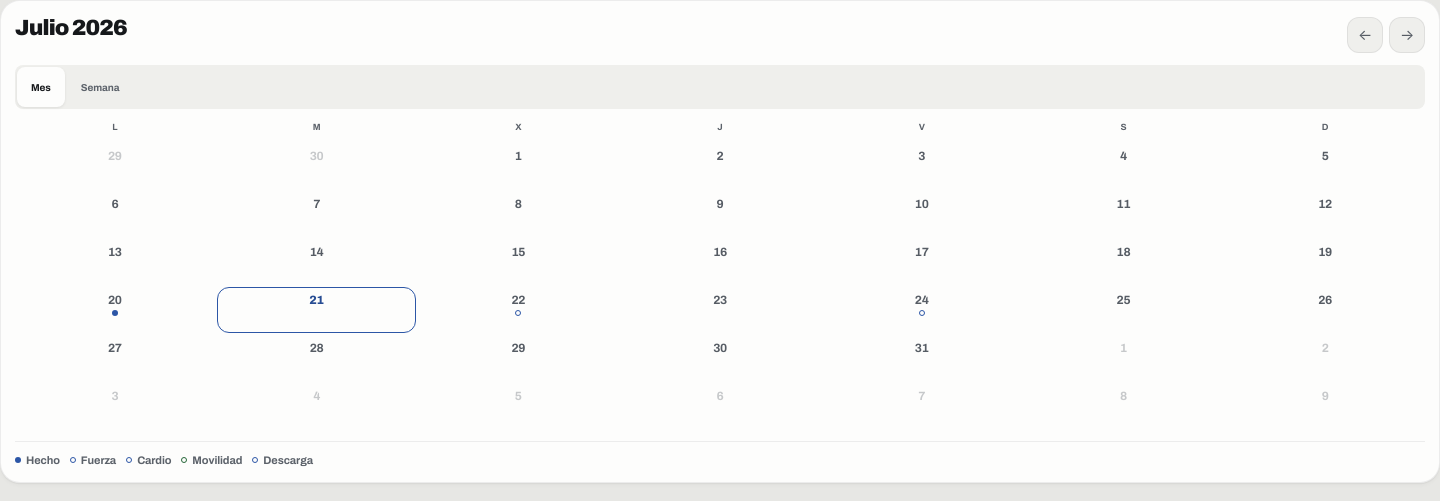
Test case: Calendar — adherencia de la semana › dice lo cumplido sobre lo prometido
Click the tab "Semana" at (100, 87), box top-left (67, 67), bottom-right (133, 107)
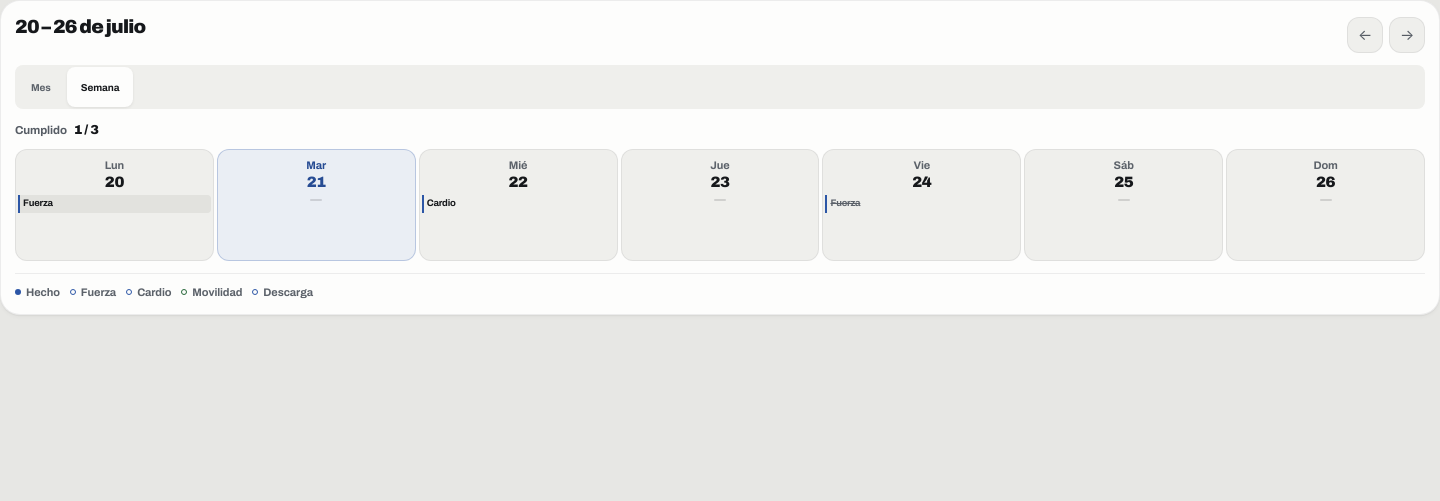
Check: the text "1 / 3" is shown, box top-left (74, 121), bottom-right (98, 140)
